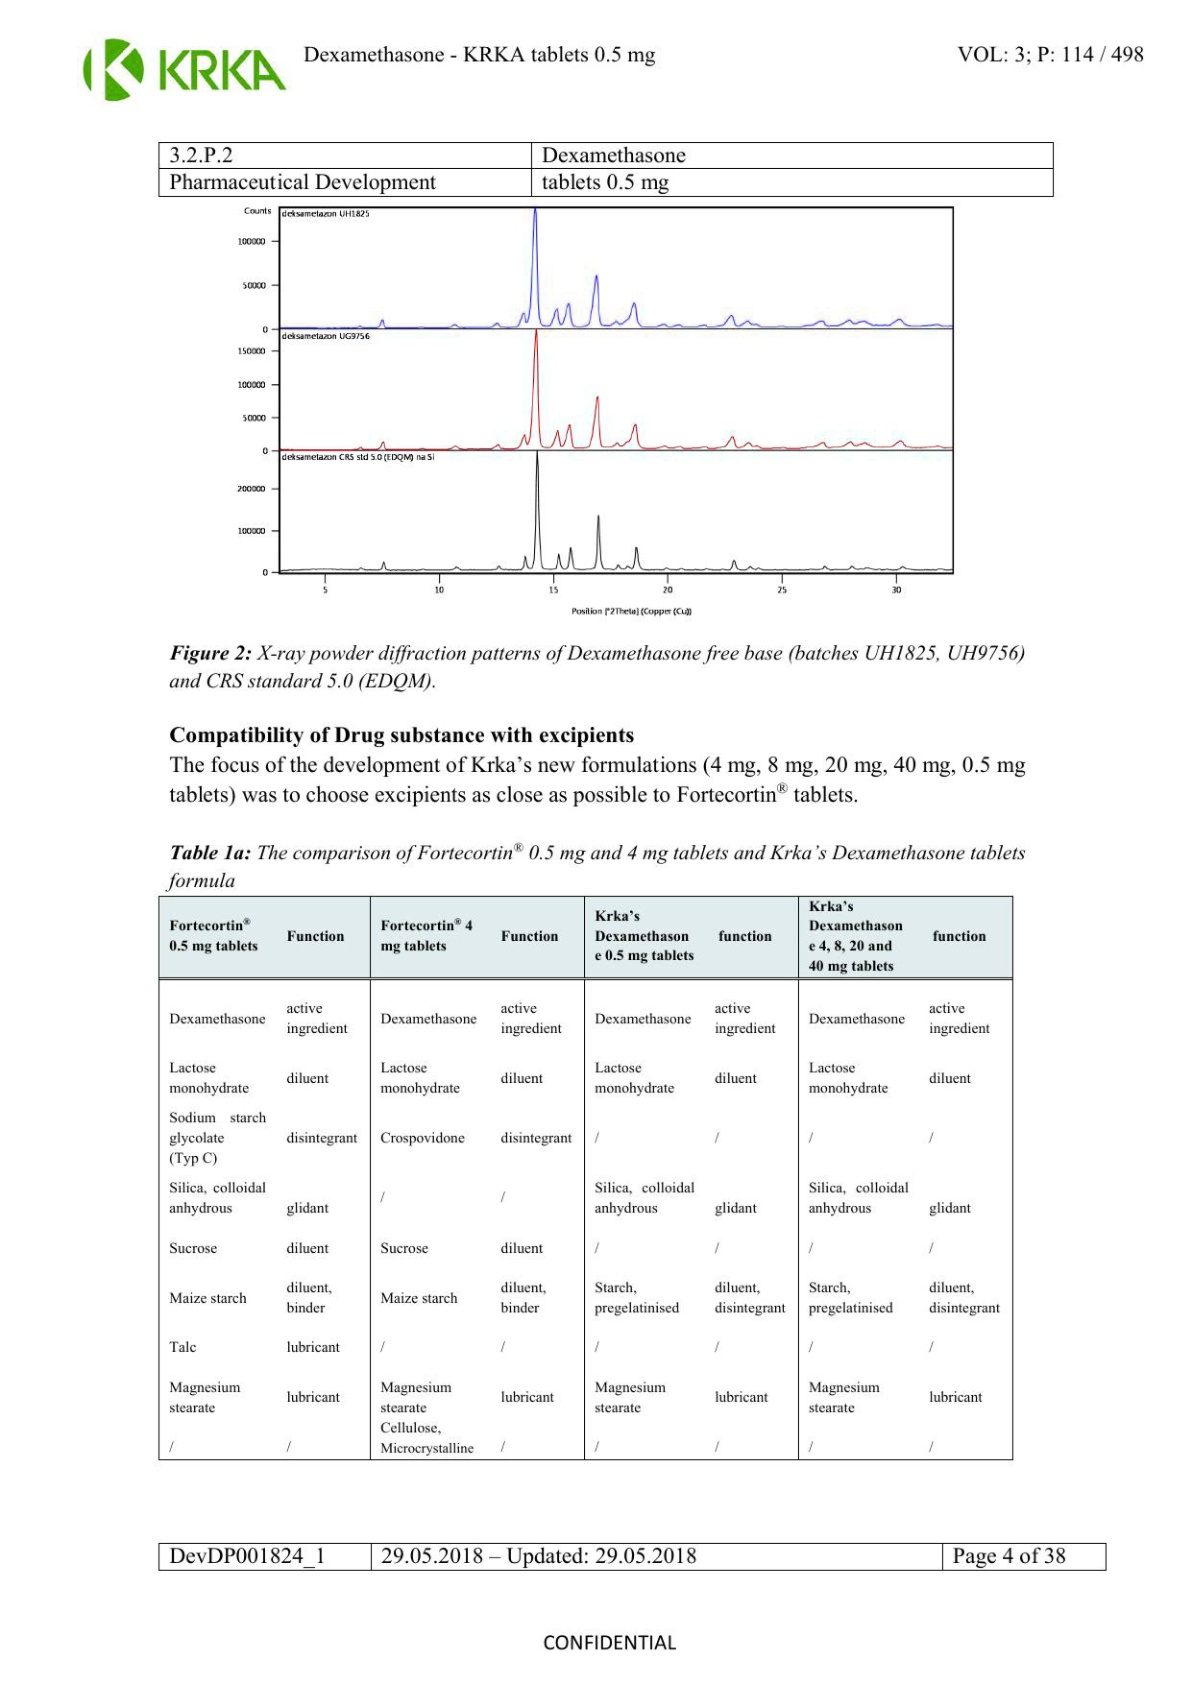full_lined: (157, 141, 1054, 199), (157, 1542, 1107, 1572)
partial_lined: (157, 894, 1014, 1462)
